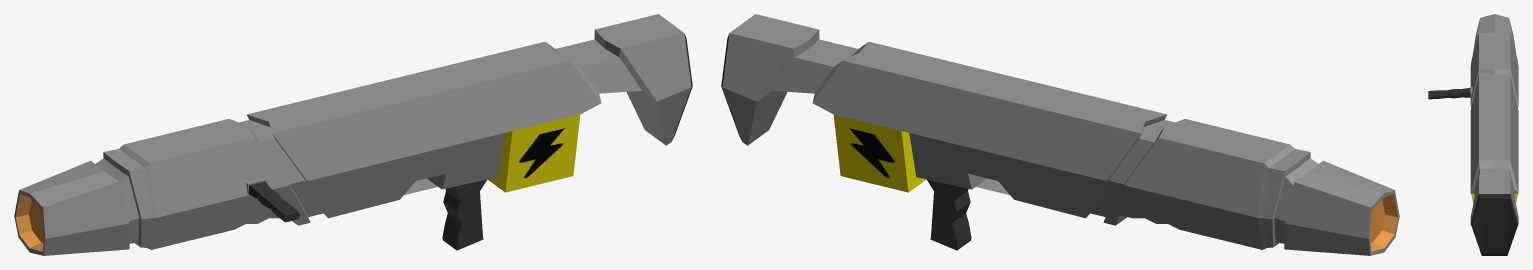
Rendered from gun.fbx.
The picture shows the model from 3 angles, left to right: view 1: azimuth 30°, elevation 25°; view 2: azimuth 150°, elevation 25°; view 3: azimuth 270°, elevation 25°; orthographic projection. The views are drawn at different scales.
Visible parts, largest first — view 1: Cylinder, Cylinder.001; view 2: Cylinder.001, Cylinder; view 3: Cylinder, Cylinder.001.
Part boxes in pixels (<box>): Cylinder: <box>29,23,692,255</box>; Cylinder.001: <box>14,14,671,251</box>; Cylinder.001: <box>721,23,1384,255</box>; Cylinder: <box>742,14,1399,251</box>; Cylinder: <box>1428,14,1494,255</box>; Cylinder.001: <box>1494,14,1518,255</box>.
Bounding box in the file's own units: 29.77 × 147 × 36.71.
